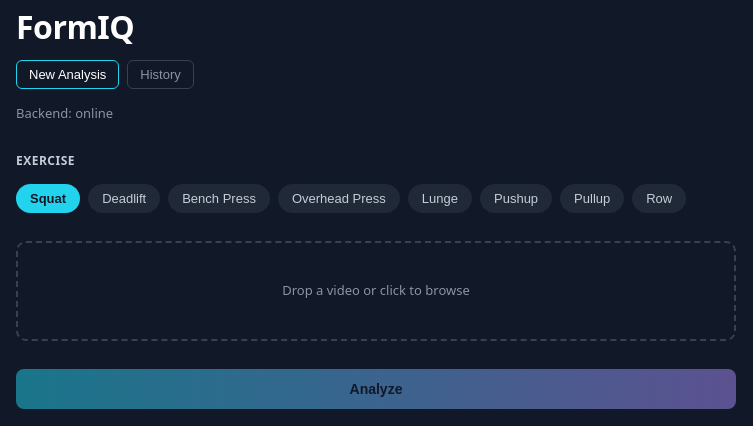
App › switches to the History view and back to idle via the nav
The image size is (753, 426).
Expected: the text "Backend: online" is shown, [16,104,113,122]
Click the button "History" at coordinates (161, 75), box [127,60,194,89]
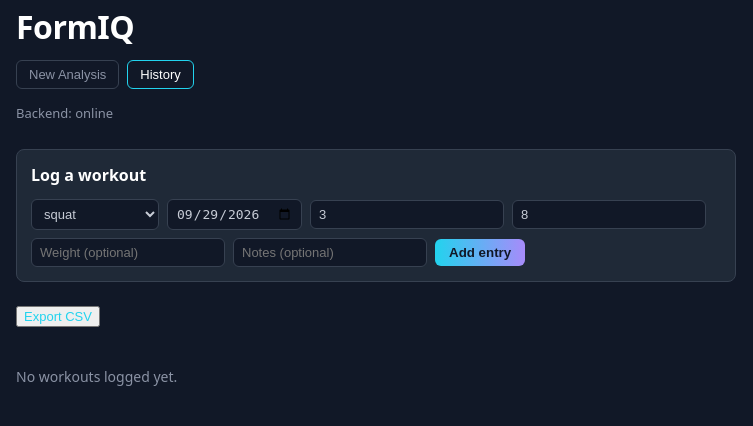
Expected: the text "No workouts logged yet." is shown, [16,368,177,386]
Click the button "New Analysis" at coordinates (68, 75), box [16,60,119,89]
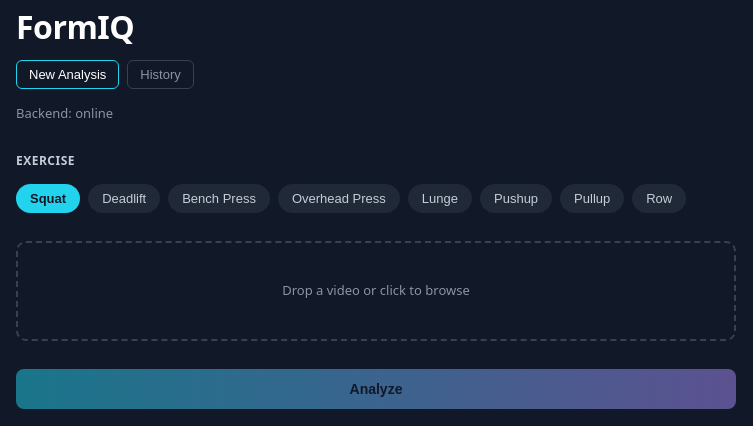
Expected: the file field labelled "Drop a video or click to browse" is shown, [16,242,736,341]
